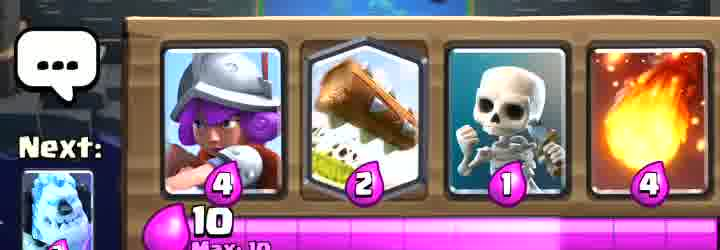fireball: (595, 46, 710, 195)
ice-golem: (25, 172, 92, 249)
log: (310, 44, 423, 195)
musketeer: (165, 48, 283, 203)
skeleton: (448, 57, 558, 201)
